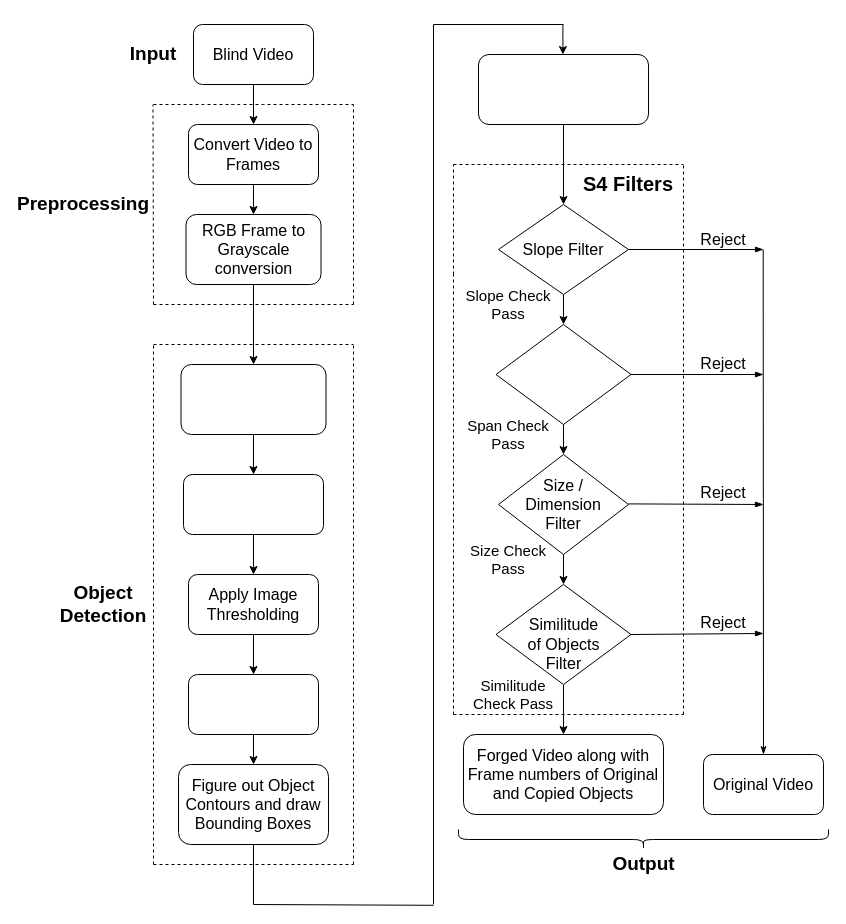
Image size: 846x924. Some labels were removed from this diagram. Each missing label, with the centre of its shape:
"Apply Gaussian Blur" belongs at [253,504].
"Measure the consecutive frame difference" belongs at [253,399].
"Object Tracking using Contours" belongs at [563,89].
"Perform Image Dilation" belongs at [253,704].
"Span /Time Duration Filter" belongs at [563,374].
